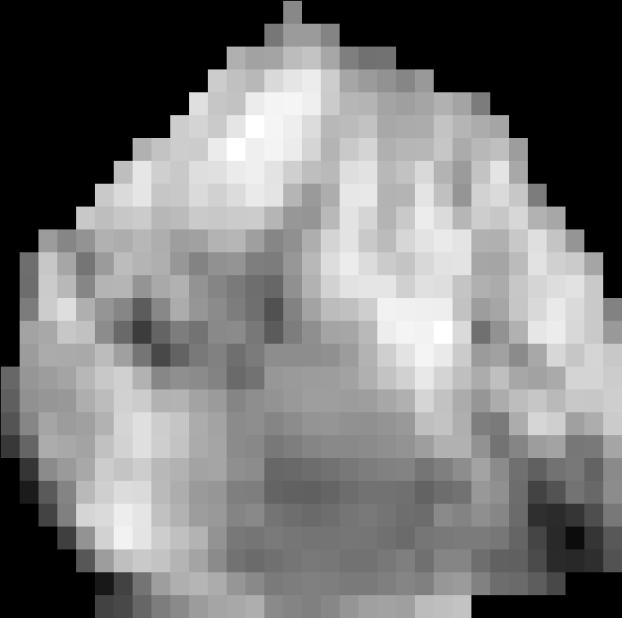tumor_good_chance: (1, 1, 622, 618)
